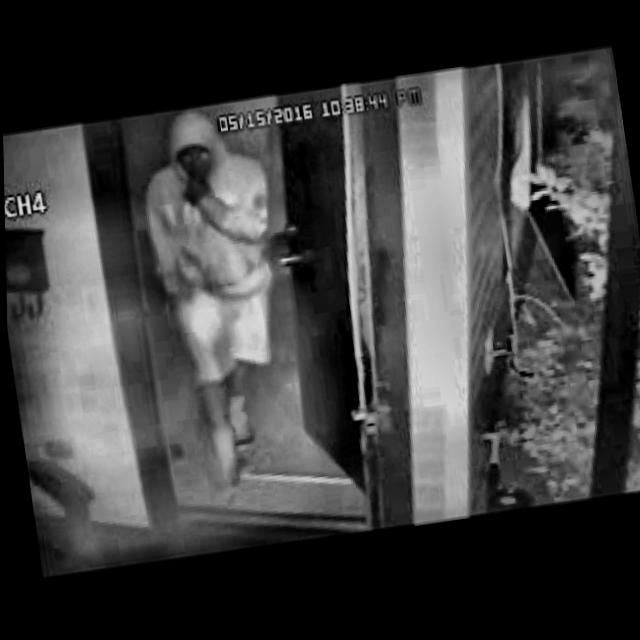burglary: (107, 87, 407, 514)
